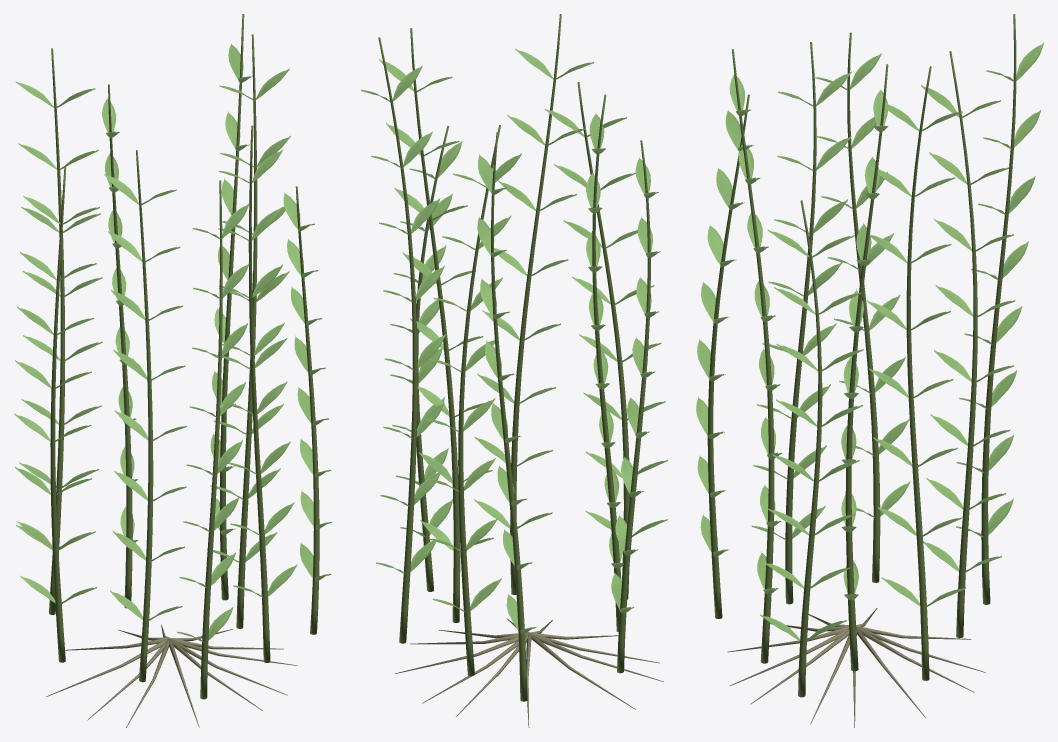
The model's file is pearlweed-mobile.glb.
3 views of the same model, side by side, from view 1: azimuth 30°, elevation 25°; view 2: azimuth 150°, elevation 25°; view 3: azimuth 270°, elevation 25° (orthographic). The views are drawn at different scales.
Visible parts, largest first — view 1: opposite-leaf, branching-stem, anchoring-root; view 2: opposite-leaf, branching-stem, anchoring-root; view 3: opposite-leaf, branching-stem, anchoring-root.
Part boxes in pixels (x1,y1,x2,y2): opposite-leaf: (14, 43, 331, 642); branching-stem: (49, 14, 319, 699); anchoring-root: (46, 624, 297, 727); opposite-leaf: (361, 48, 667, 634); branching-stem: (378, 14, 650, 701); anchoring-root: (395, 618, 663, 727); opposite-leaf: (696, 42, 1043, 640); branching-stem: (707, 14, 1016, 697); anchoring-root: (727, 608, 985, 727).
Size of the model in its own units: 0.3091 by 0.6623 by 0.3171.
